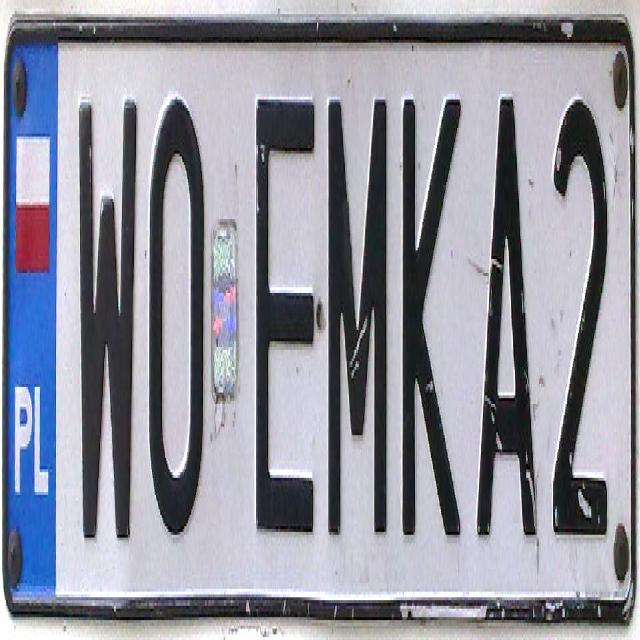pl_license_plate: (6, 26, 633, 608)
